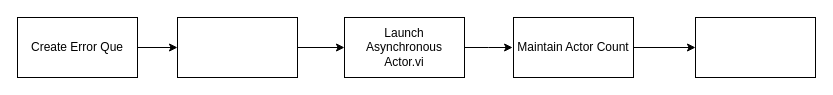
Some shapes in this 833 by 95 pixel diagram are drawn without their labels. Each missing label, with the centre of its shape:
Create Message Que: pixel 237 47
Run Pre Launch Init VI: pixel 755 47
